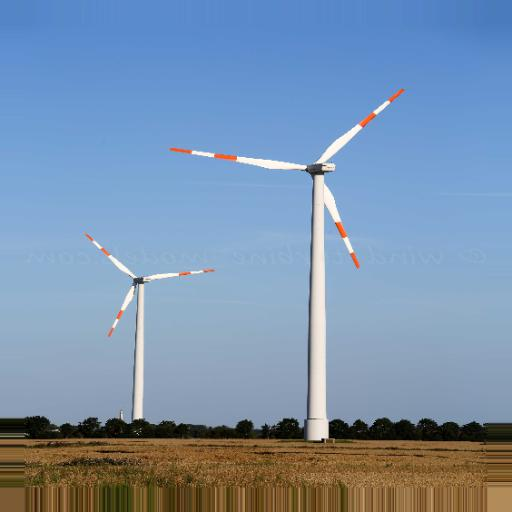wind turbine: (169, 87, 406, 439), (81, 230, 218, 436)
